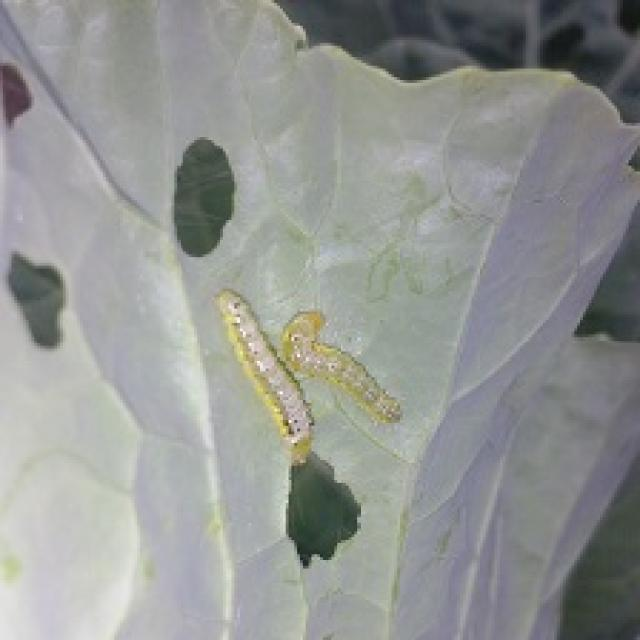Cabbage-worm: (280, 296, 411, 442), (217, 289, 307, 466)
